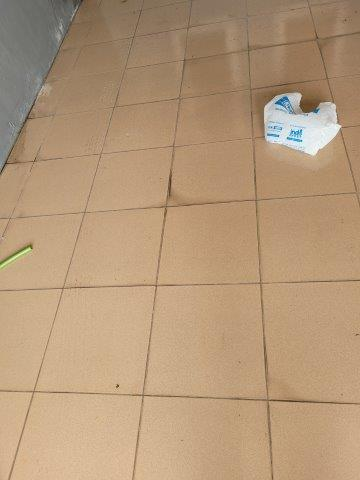plastik: (263, 91, 343, 156)
